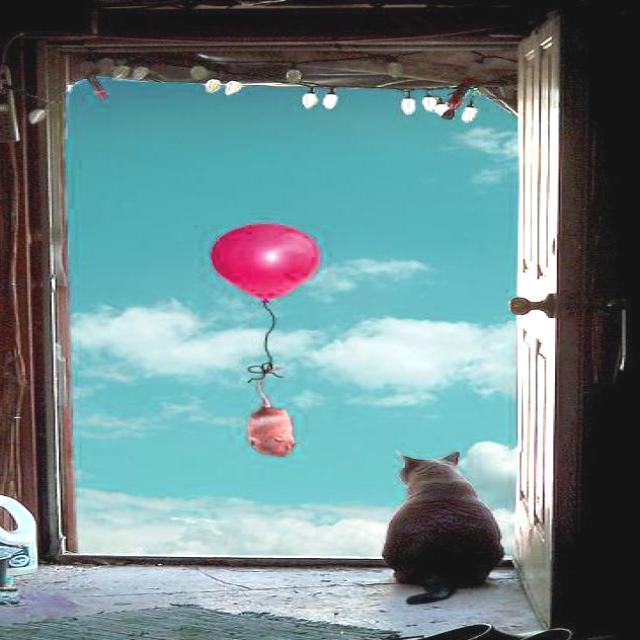Door: (498, 14, 589, 632)
